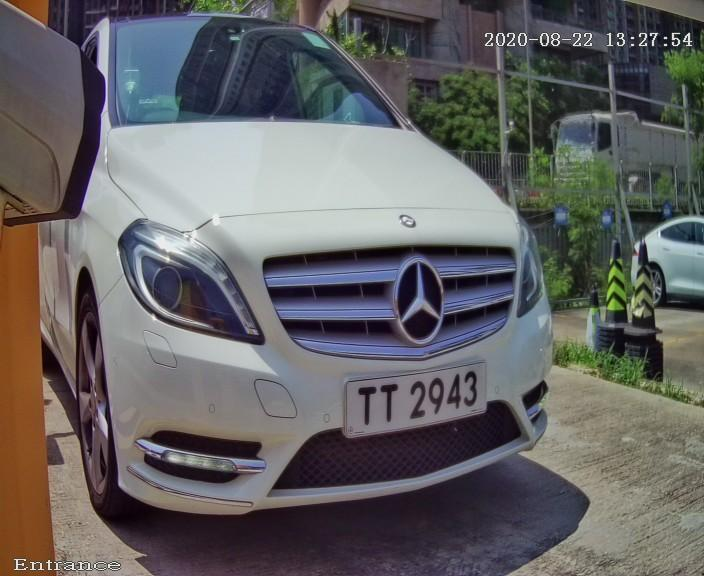Car: (16, 8, 604, 564)
License Plate: (318, 338, 508, 451)
